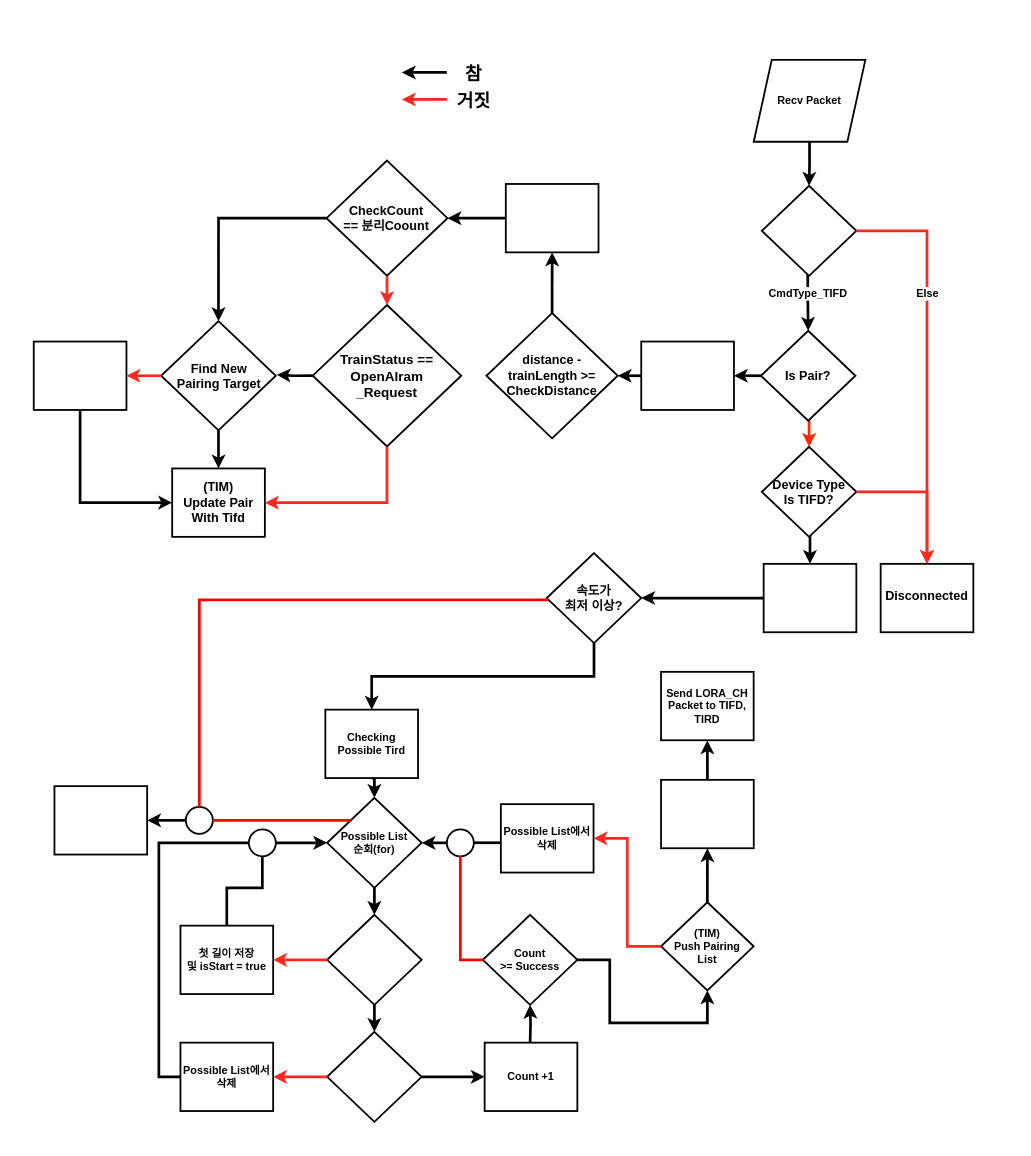
Some shapes in this 1031 by 1156 pixel diagram are drawn without their labels. The shapes that lost their labels are listed below. From the top down, each one's centre as x and y in pixels, then its label:
point (551, 218): checkCount ++
point (808, 230): Cmd_Type CHeck
point (79, 375): Send CmdType _Alarm
point (687, 375): Handle Pairing Info
point (809, 597): Handle Update Pending Info
point (100, 820): Find Near Possible TIRD
point (707, 813): Send Pairing Packet to TIFD
point (374, 959): is Start?
point (374, 1076): 길이 - 첫길이 < 정확도설정
